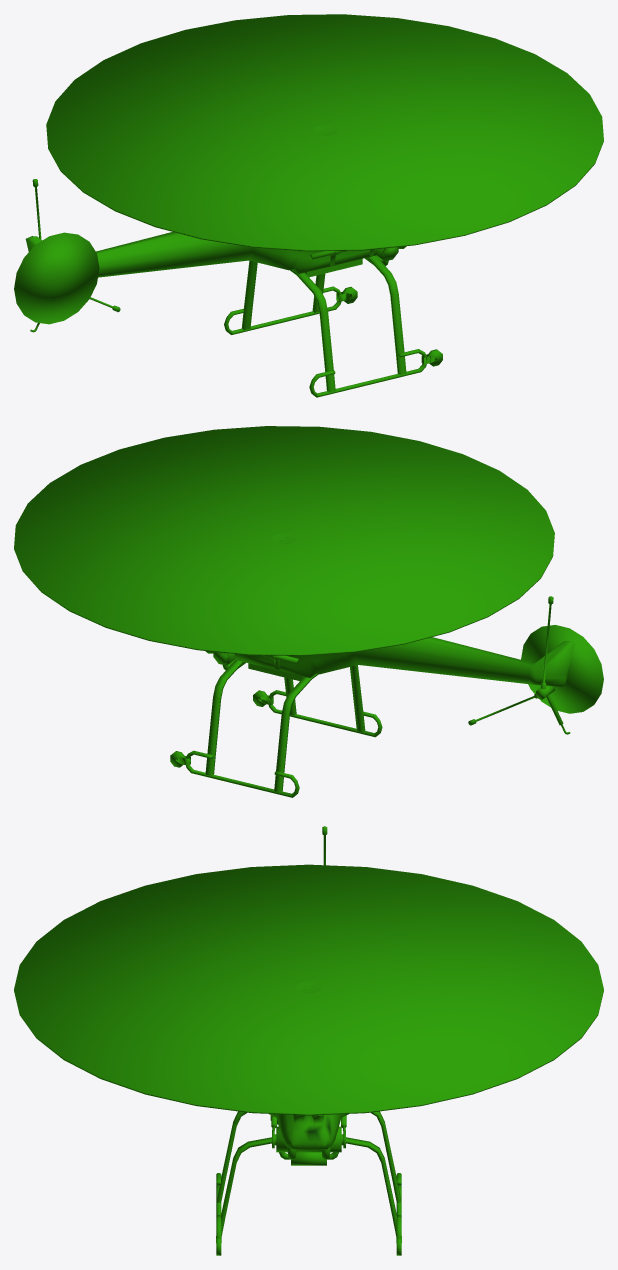
Rendered from Hawk_green.dae.
3 views of the same model, one above another, from view 1: azimuth 30°, elevation 25°; view 2: azimuth 150°, elevation 25°; view 3: azimuth 270°, elevation 25° (orthographic). The views are drawn at different scales.
Parts seen in each view (by area): view 1: rmaxte-0_001; view 2: rmaxte-0_001; view 3: rmaxte-0_001.
Part boxes in pixels (x1,y1,x2,y2): rmaxte-0_001: (14,14,603,397); rmaxte-0_001: (14,426,603,797); rmaxte-0_001: (14,826,603,1255).
Size of the model in its own units: 3.2 by 2.76 by 1.29.
